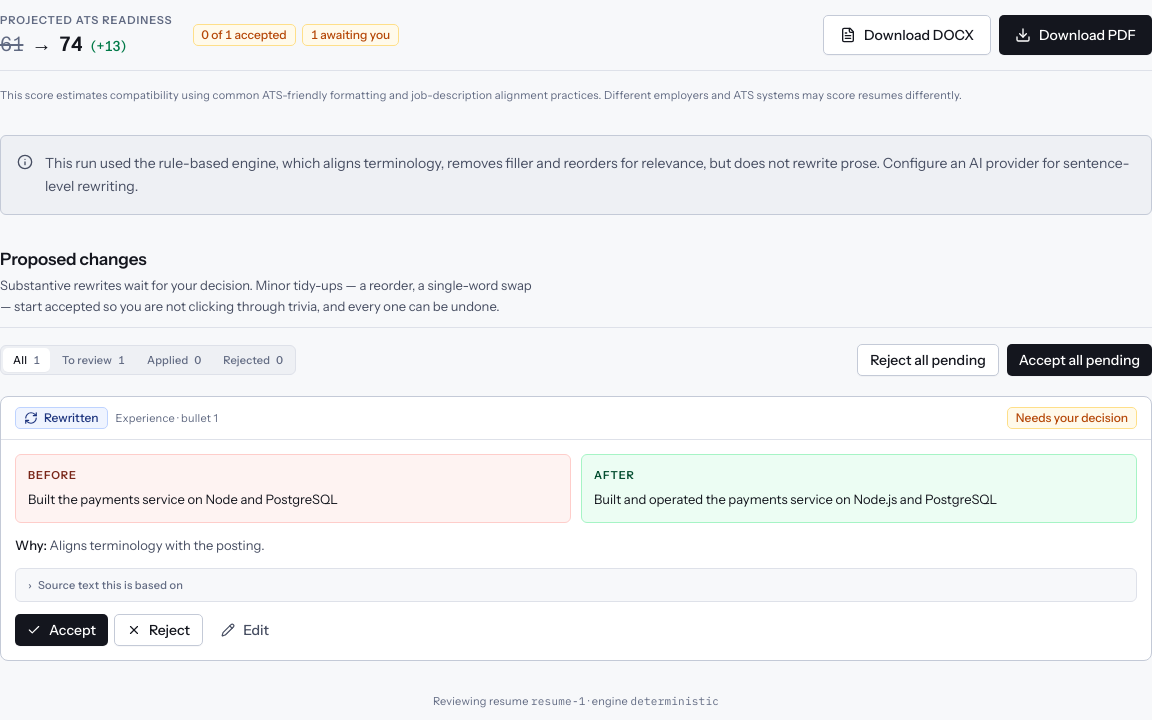
exporting › reports a failed export
Step 1. Click the button "Download PDF" → (1076, 35), box [999,15,1151,55]
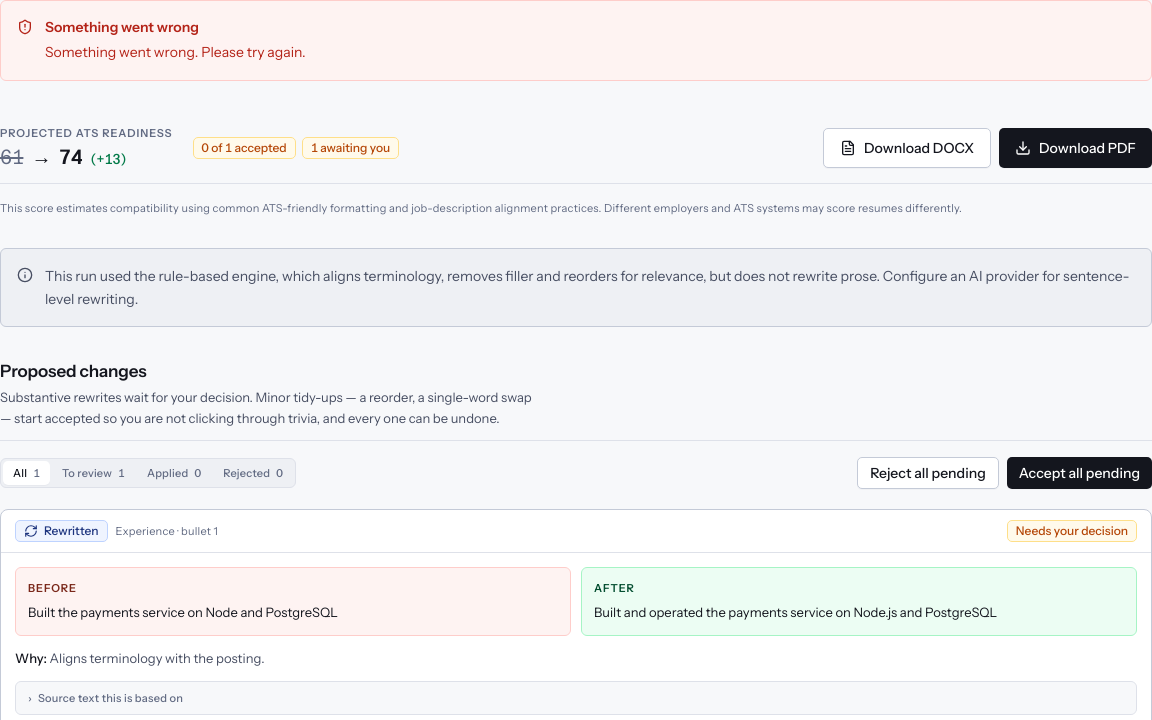
Result: the message "Something went wrong Something went wrong. Please try again." is shown at [0,0,1151,81]
